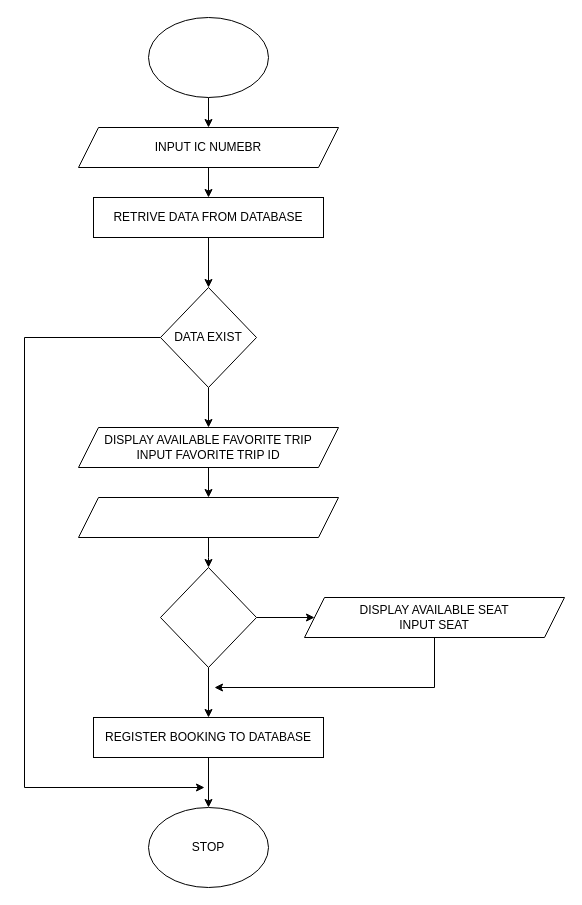
This 582x905 diagram has some shape labels left out. The shapes that lost their labels are listed below. From the top down, each one's box as (x1, y1, x2, y2) in pixels, then its label:
(148, 16, 268, 98): START
(78, 496, 338, 538): INPUT DATE, TIME
(160, 566, 256, 668): SEAT AVAILABLE
